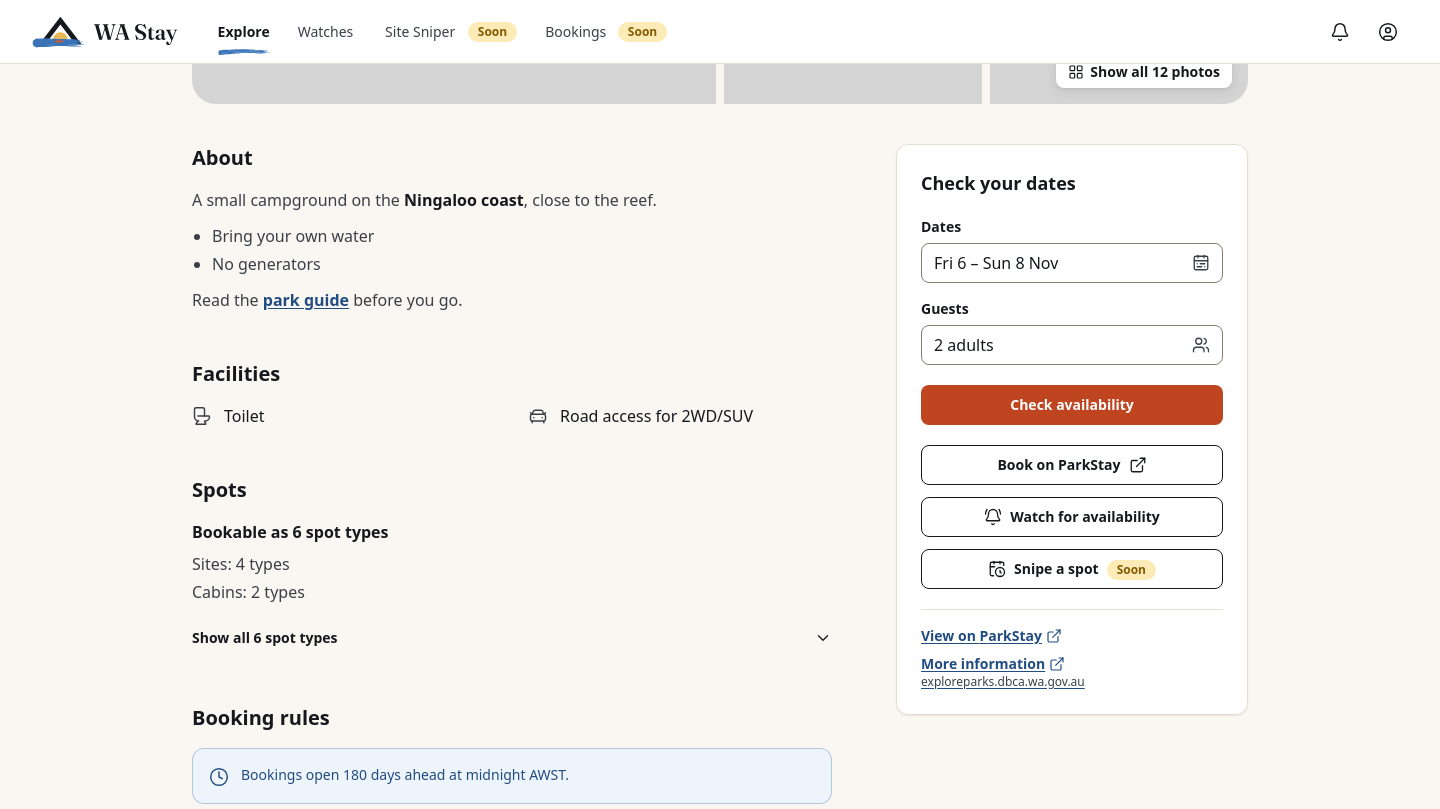
Scenario: PlaceDetailPage: unit nouns › a place whose units are types (RAC): "Bookable as 6 spot types", never "6 spots" beside "51 spots free"
(page scrolled)
Expected: the heading "About" is shown, [192, 144, 253, 171]
Expected: the text "Bookable as 6 spot types" is shown, [192, 521, 388, 543]
Click the button "Check availability".
click(1072, 405)  # box [921, 385, 1223, 425]
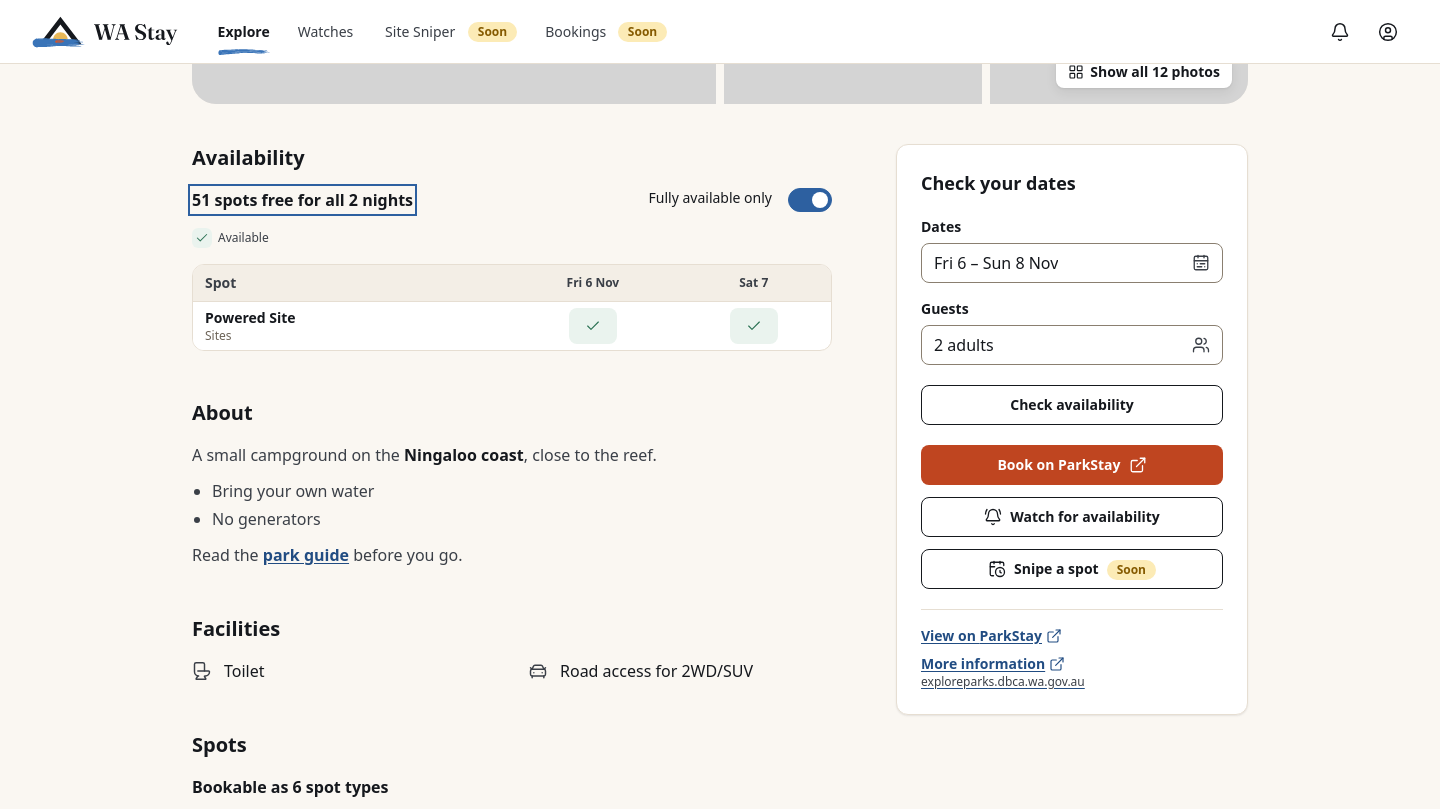
Expected: the text "51 spots free for all 2 nights" is shown, [192, 188, 413, 212]
